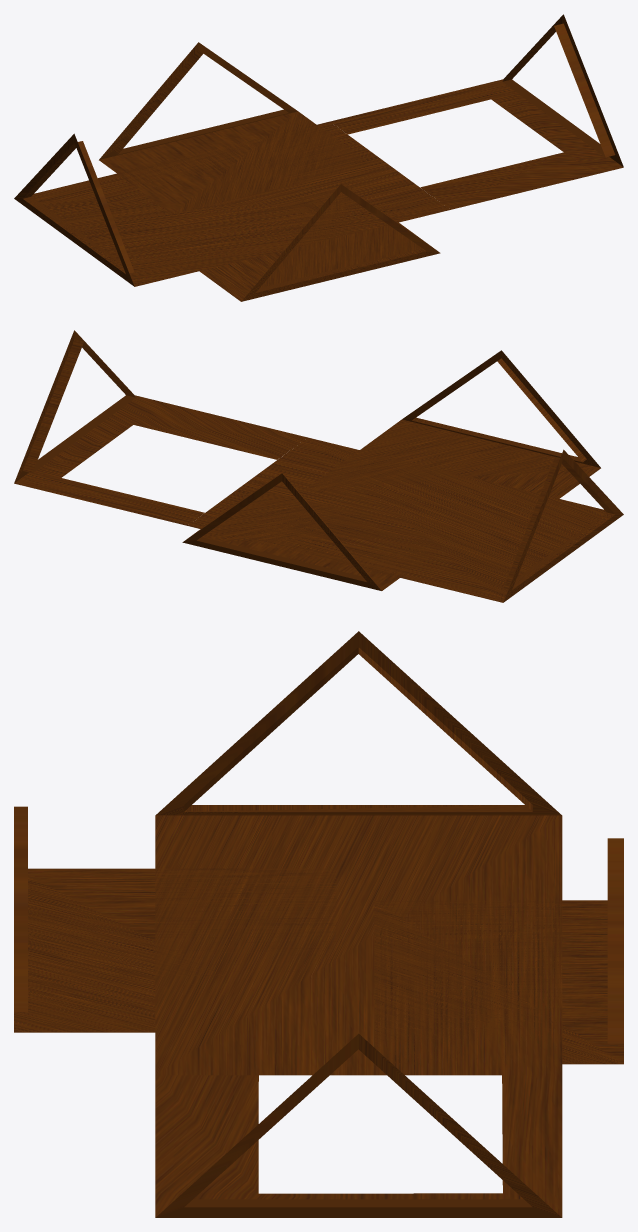
Rendered from kitchen-exteriorwood.obj.
The picture shows the model from 3 angles, top to bottom: view 1: azimuth 30°, elevation 25°; view 2: azimuth 150°, elevation 25°; view 3: azimuth 270°, elevation 25°; orthographic projection. The views are drawn at different scales.
Visible parts, largest first — view 1: roof_Cube.015; view 2: roof_Cube.015; view 3: roof_Cube.015.
Part boxes in pixels (x1,y1,x2,y2): roof_Cube.015: [14, 14, 623, 301]; roof_Cube.015: [14, 330, 623, 602]; roof_Cube.015: [14, 631, 623, 1217].
Bounding box in the file's own units: 45.51 × 9.72 × 29.15.
1 material, 1 textured.
